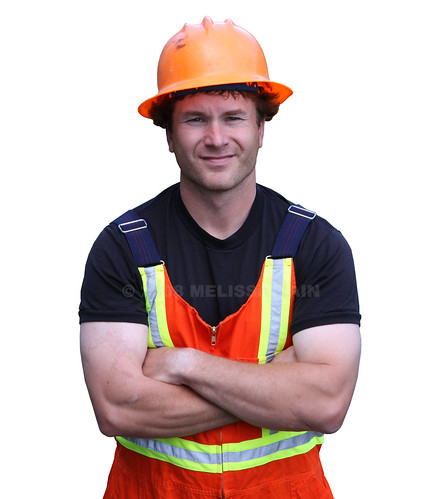person hardhat: (76, 19, 366, 499)
